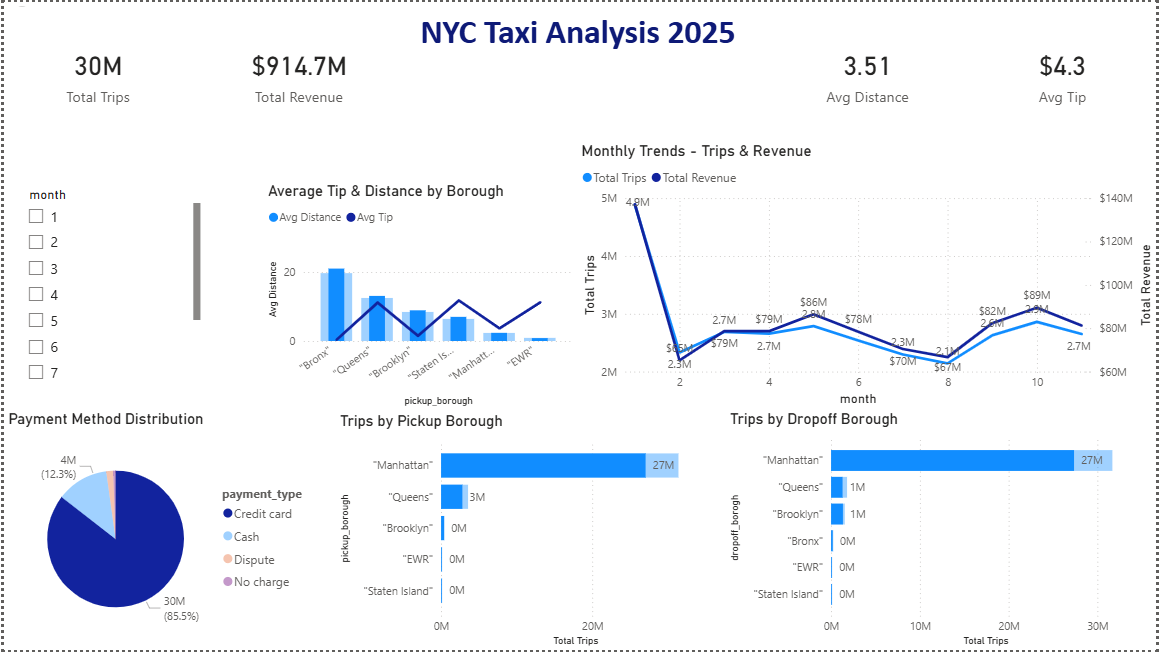

The page's visual inventory and layout, read from the dashboard file:
{"tool":"powerbi","page":{"name":"Page 1","canvas":[1280,720],"ordinal":0},"visuals":[{"type":"textbox","box":[451.7,5,371.7,55],"z":0},{"type":"lineChart","title":"Monthly Trends - Trips & Revenue","fields":{"Category":["gold trip_data_summary.month"],"Y":["gold trip_data_summary.Total Trips"],"Y2":["gold trip_data_summary.Total Revenue"]},"box":[636.7,155,643.3,298.3],"z":1},{"type":"clusteredBarChart","title":"Trips by Pickup Borough","fields":{"Category":["gold trip_data_summary.pickup_borough"],"Y":["gold trip_data_summary.Total Trips"]},"box":[368.3,455,433.3,265],"z":2},{"type":"clusteredBarChart","title":"Trips by Dropoff Borough","fields":{"Category":["gold trip_data_summary.dropoff_borogh"],"Y":["gold trip_data_summary.Total Trips"]},"box":[801.7,453.3,478.3,266.7],"z":3},{"type":"pieChart","title":"Payment Method Distribution","fields":{"Category":["gold trip_data_summary.payment_type"],"Y":["gold trip_data_summary.Total Trips"]},"box":[0,453.3,353.3,266.7],"z":4},{"type":"lineStackedColumnComboChart","title":"Average Tip & Distance by Borough","fields":{"Category":["gold trip_data_summary.pickup_borough"],"Y":["gold trip_data_summary.Avg Distance"],"Y2":["gold trip_data_summary.Avg Tip"]},"box":[288.3,200,348.3,253.3],"z":5},{"type":"actionButton","box":[0,0,100,40],"z":7},{"type":"slicer","fields":{"Values":["gold trip_data_summary.month"]},"box":[15,200,208.3,231.7],"z":8},{"type":"card","fields":{"Values":["gold trip_data_summary.Total Trips"]},"box":[0,5,208.3,150],"z":9},{"type":"card","fields":{"Values":["gold trip_data_summary.Total Revenue"]},"box":[223.3,5,208.3,150],"z":10},{"type":"card","fields":{"Values":["gold trip_data_summary.Avg Distance"]},"box":[855,5,208.3,150],"z":11},{"type":"card","fields":{"Values":["gold trip_data_summary.Avg Tip"]},"box":[1071.7,5,208.3,150],"z":12}]}

Visuals, with their boxes in screenshot pixels (x1, y1, x2, y2), scaled from the page's 1280x720 canvas onto the 1159x652 screenshot:
textbox: <region>409, 5, 746, 54</region>
"Monthly Trends - Trips & Revenue" lineChart: <region>577, 140, 1158, 410</region>
"Trips by Pickup Borough" clusteredBarChart: <region>333, 412, 726, 651</region>
"Trips by Dropoff Borough" clusteredBarChart: <region>726, 410, 1158, 651</region>
"Payment Method Distribution" pieChart: <region>0, 410, 320, 651</region>
"Average Tip & Distance by Borough" lineStackedColumnComboChart: <region>261, 181, 576, 410</region>
actionButton: <region>0, 0, 91, 36</region>
slicer - gold trip_data_summary.month: <region>14, 181, 202, 391</region>
card - gold trip_data_summary.Total Trips: <region>0, 5, 189, 140</region>
card - gold trip_data_summary.Total Revenue: <region>202, 5, 391, 140</region>
card - gold trip_data_summary.Avg Distance: <region>774, 5, 963, 140</region>
card - gold trip_data_summary.Avg Tip: <region>970, 5, 1158, 140</region>
